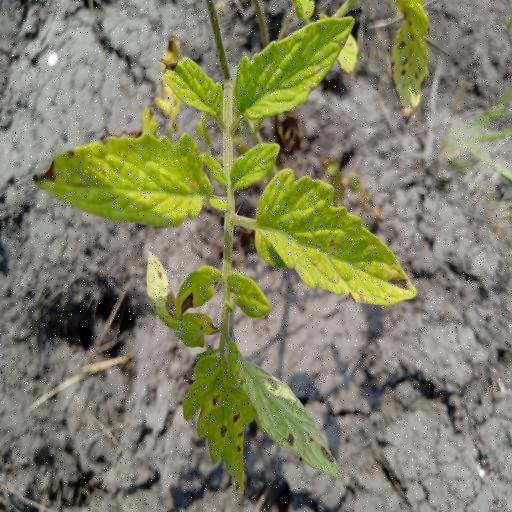Tomato_Brown_Spots: (250, 165, 419, 310), (30, 130, 218, 230), (233, 13, 358, 122), (182, 342, 264, 492), (144, 248, 220, 344), (386, 0, 437, 127)
